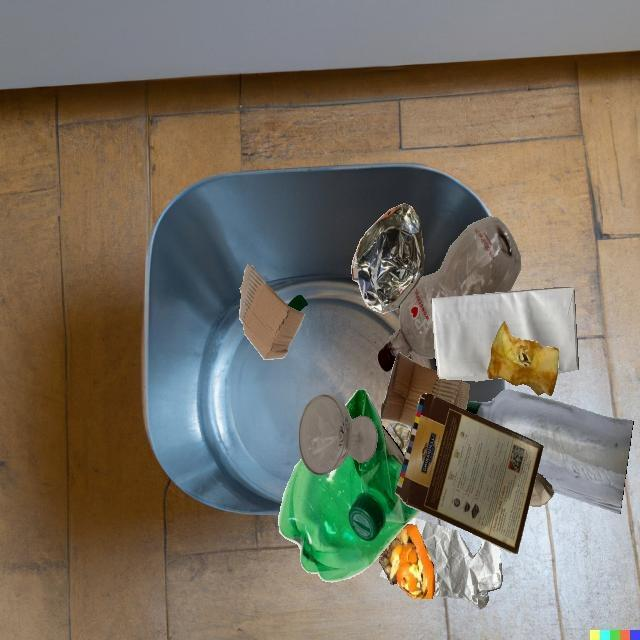biowaste: (487, 321, 559, 396), (379, 524, 435, 599)
cardboard: (395, 393, 543, 554), (381, 352, 469, 427), (239, 264, 305, 360)
glass: (466, 389, 633, 514), (299, 394, 378, 475), (382, 425, 404, 465)
metal: (351, 203, 424, 313)
paper: (432, 287, 579, 381), (433, 548, 503, 610), (403, 517, 471, 559), (385, 422, 411, 457), (529, 473, 554, 506)
plastic: (278, 389, 420, 582), (377, 216, 521, 372), (287, 294, 308, 311)
